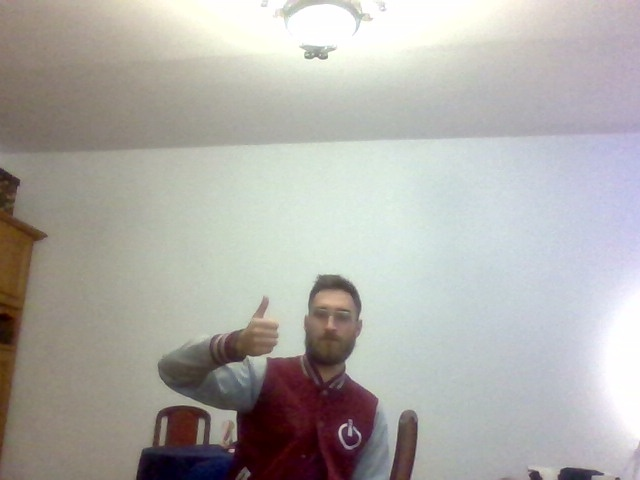ThumbsUp: (244, 294, 280, 356)
